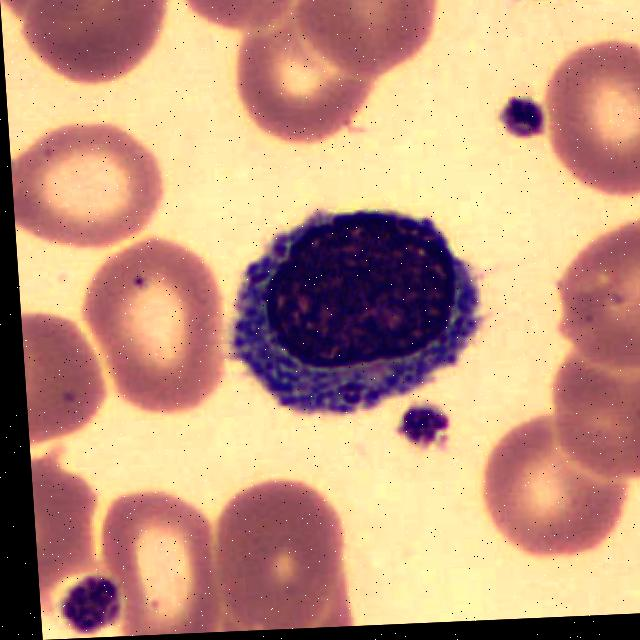lymphocyte: (227, 202, 489, 413)
platelets: (57, 570, 129, 639), (395, 407, 459, 463), (491, 95, 551, 146), (510, 0, 583, 10)
rbc: (87, 246, 230, 418), (197, 476, 360, 619), (9, 122, 176, 257), (483, 417, 640, 559), (230, 25, 376, 144), (549, 213, 640, 391), (104, 500, 218, 637), (544, 39, 640, 201), (280, 0, 452, 86), (20, 298, 111, 449), (30, 441, 107, 615), (22, 0, 173, 85), (547, 370, 640, 490), (200, 589, 357, 633), (182, 0, 303, 34), (0, 0, 51, 46), (638, 585, 640, 613)
